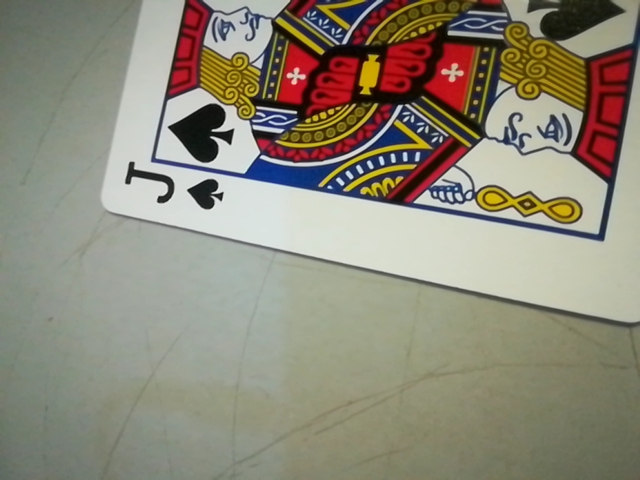ht j: (108, 146, 233, 224)
